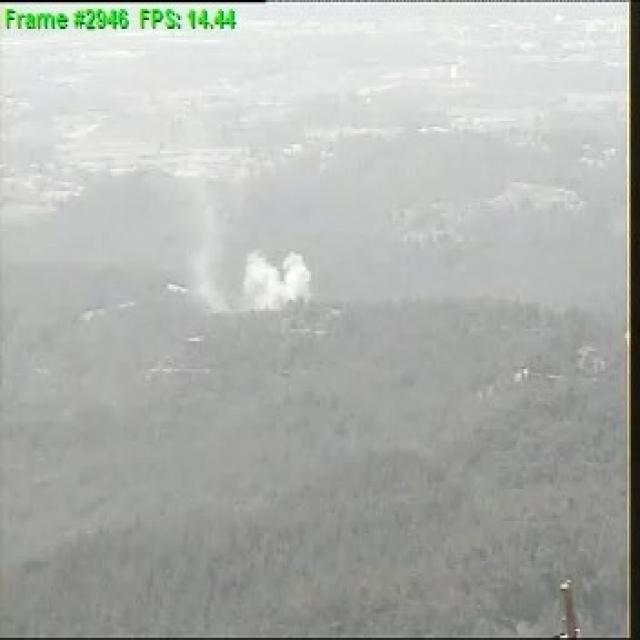smoke: (193, 243, 311, 311)
